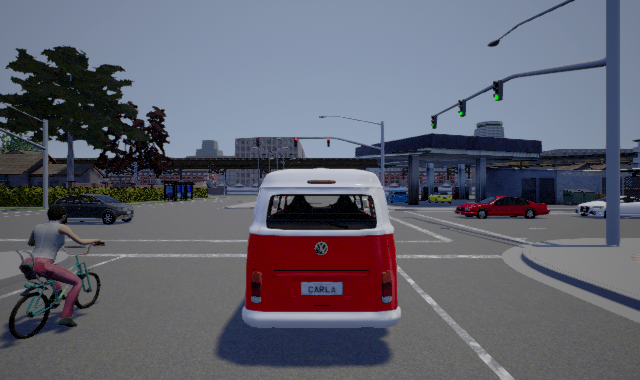bike: (5, 212, 111, 342)
traffic_light: (493, 80, 503, 101), (458, 99, 466, 117), (431, 115, 437, 129), (256, 137, 260, 147), (327, 137, 330, 147), (294, 137, 297, 147)
vehicle: (242, 168, 408, 328), (53, 194, 134, 225), (454, 196, 550, 219), (575, 189, 640, 218)
